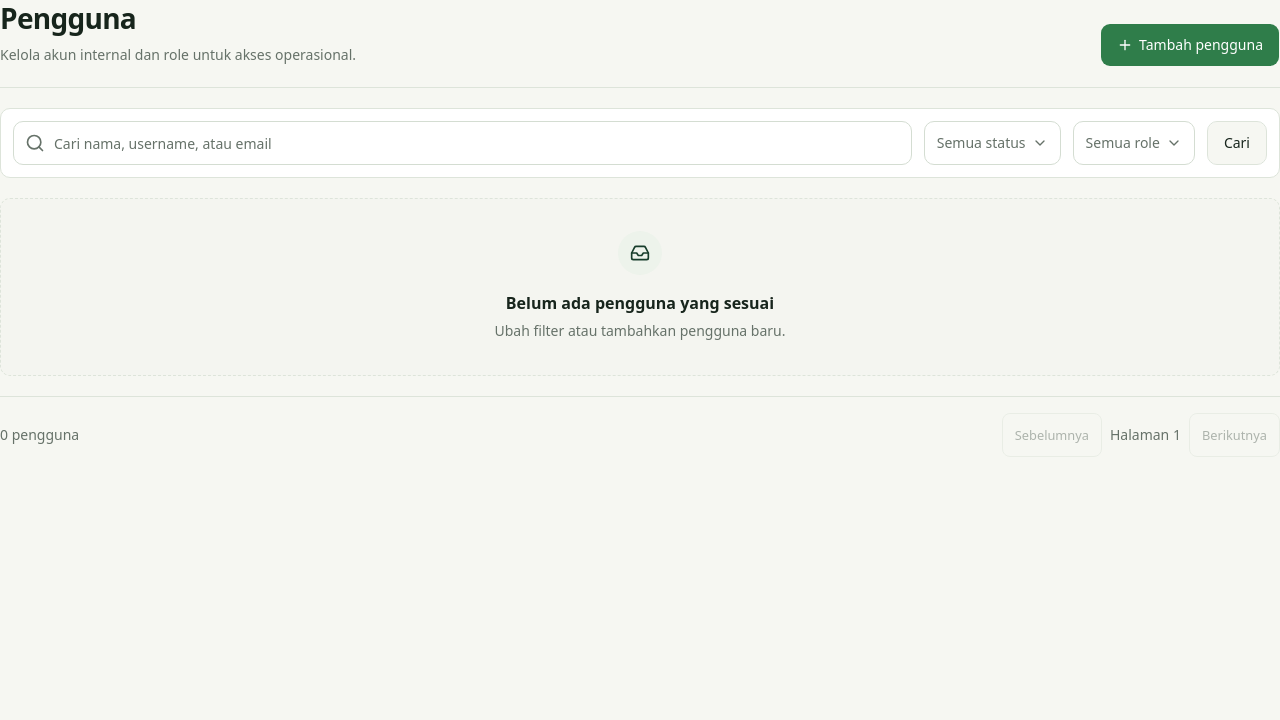
Test: shows an API error when creating a user fails
Click the button "Tambah pengguna" at (1190, 45), box [1100,23,1279,67]
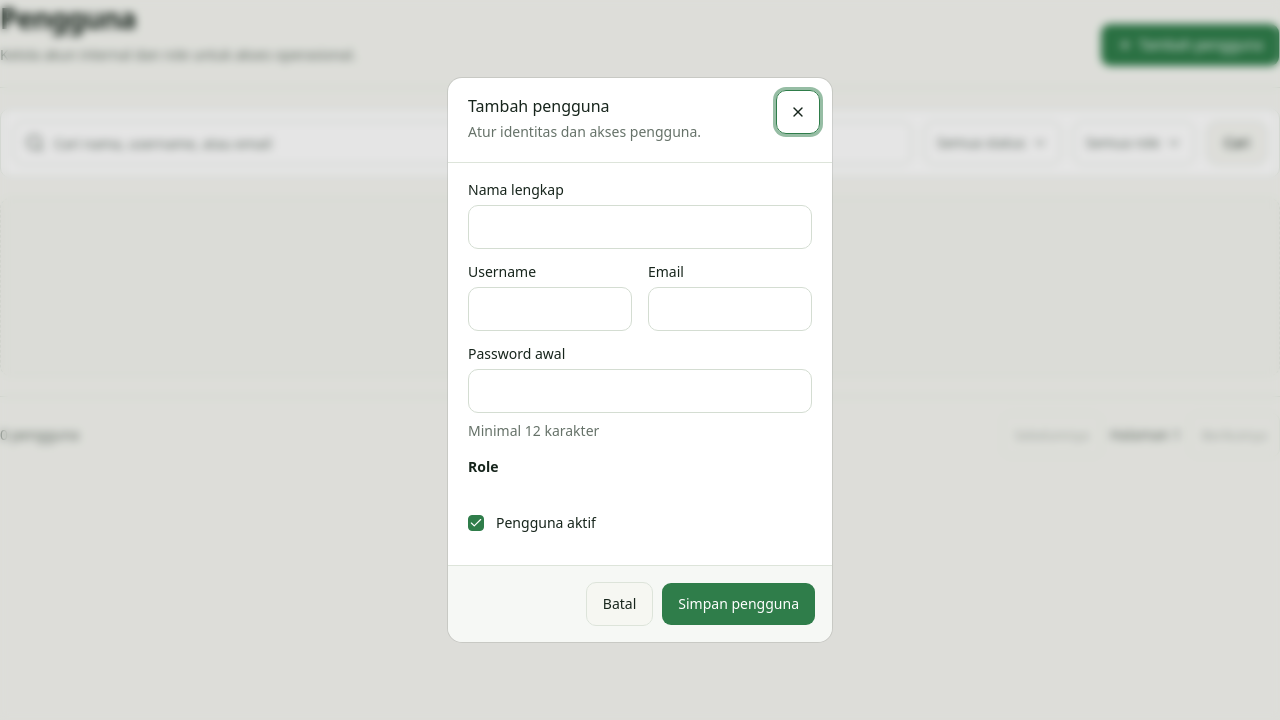
Type "Petugas Baru" into the field labelled "Nama lengkap" at (640, 227), box [468,205,812,249]
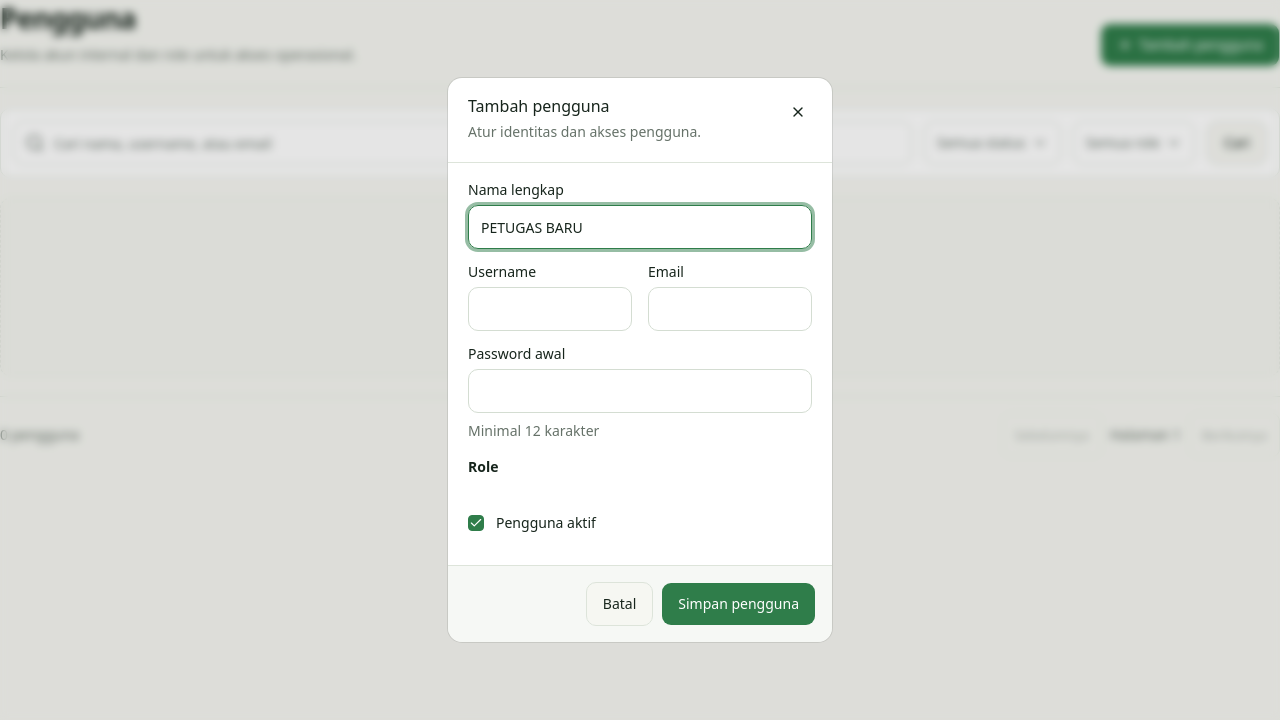
Type "petugas.baru" into the field labelled "Username" at (550, 309), box [468,287,632,331]
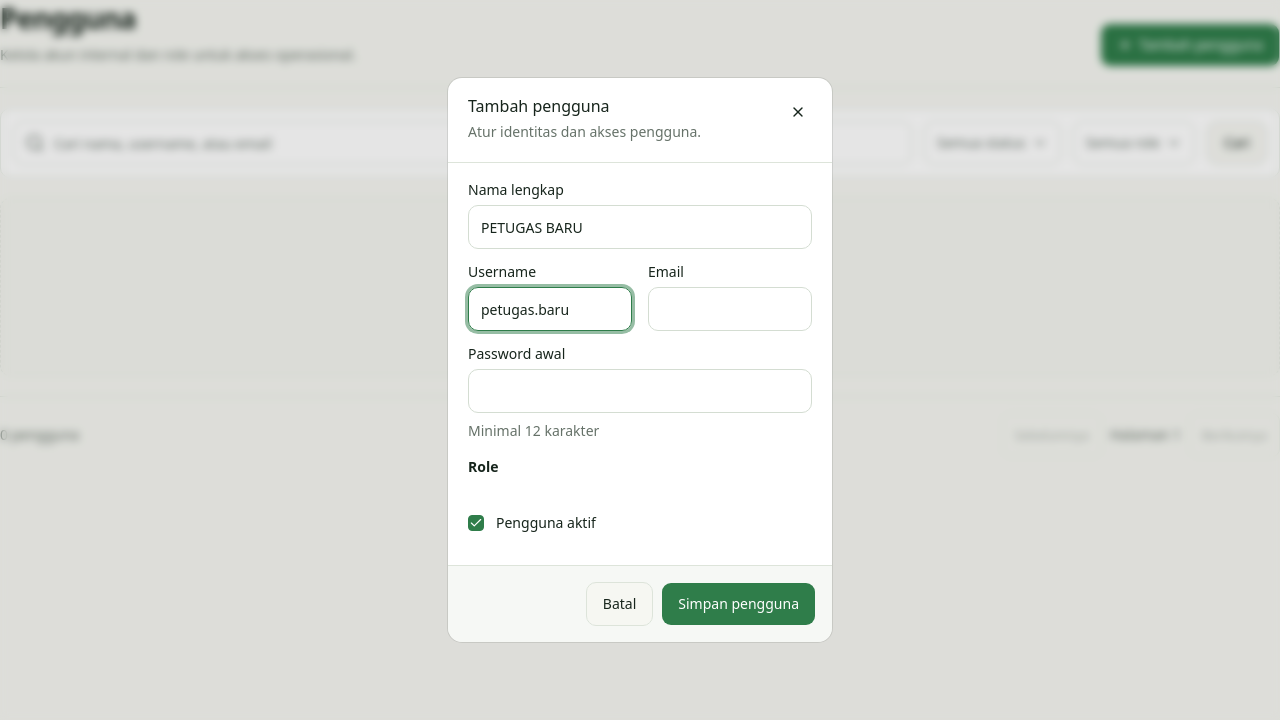
Type "petugas@konkit.test" into the field labelled "Email" at (730, 309), box [648,287,812,331]
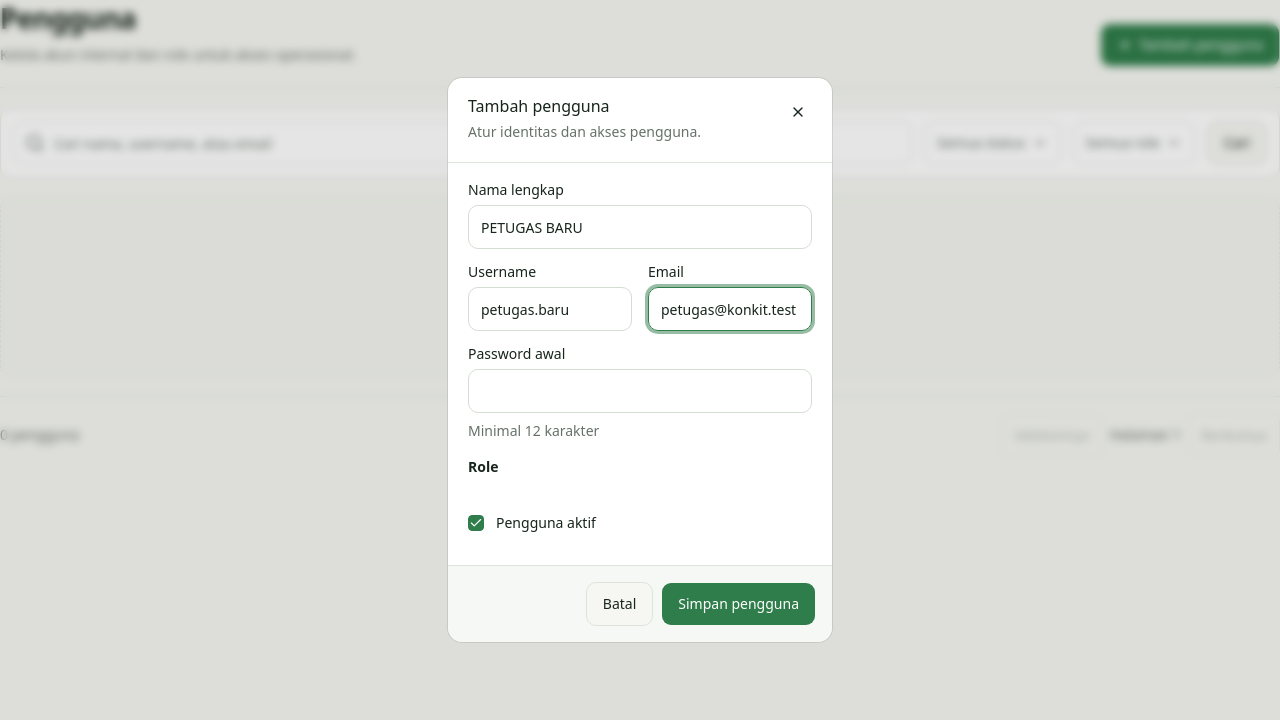
Type "Password-awal-2026" into the password field named "password" at (640, 391), box [468,369,812,413]
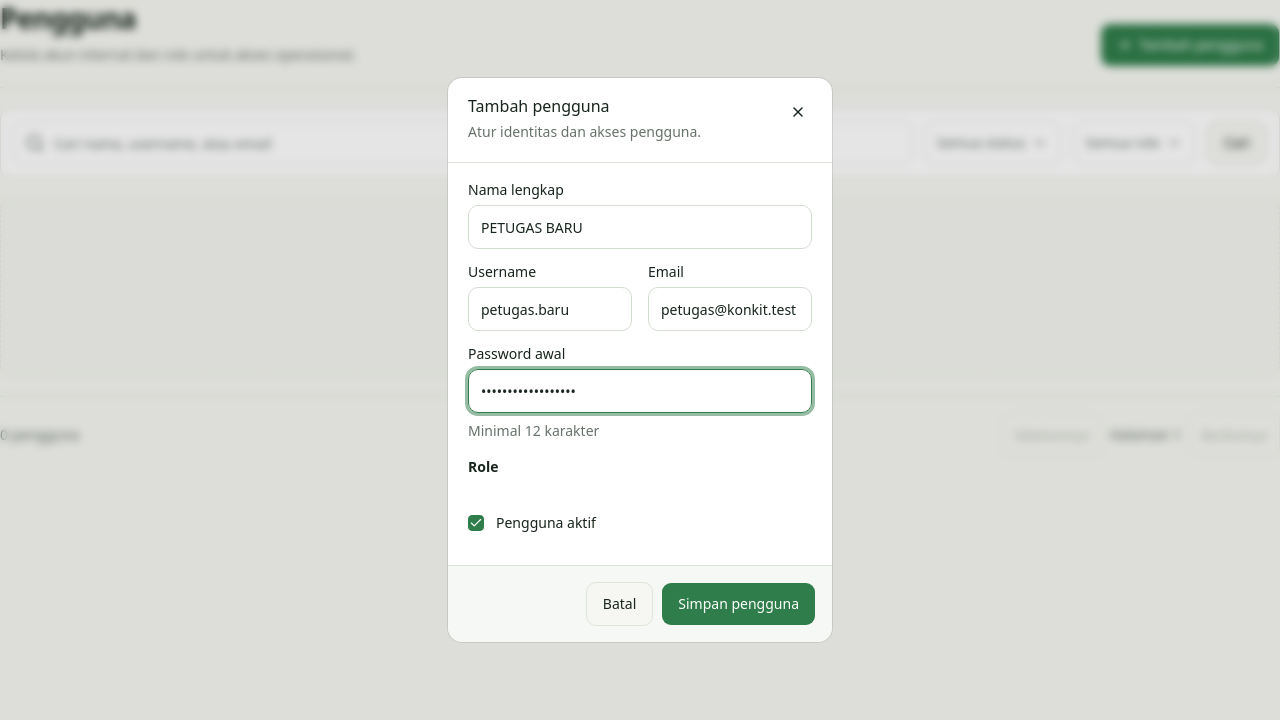
Click the button "Simpan pengguna" at (739, 604), box [661,582,816,626]
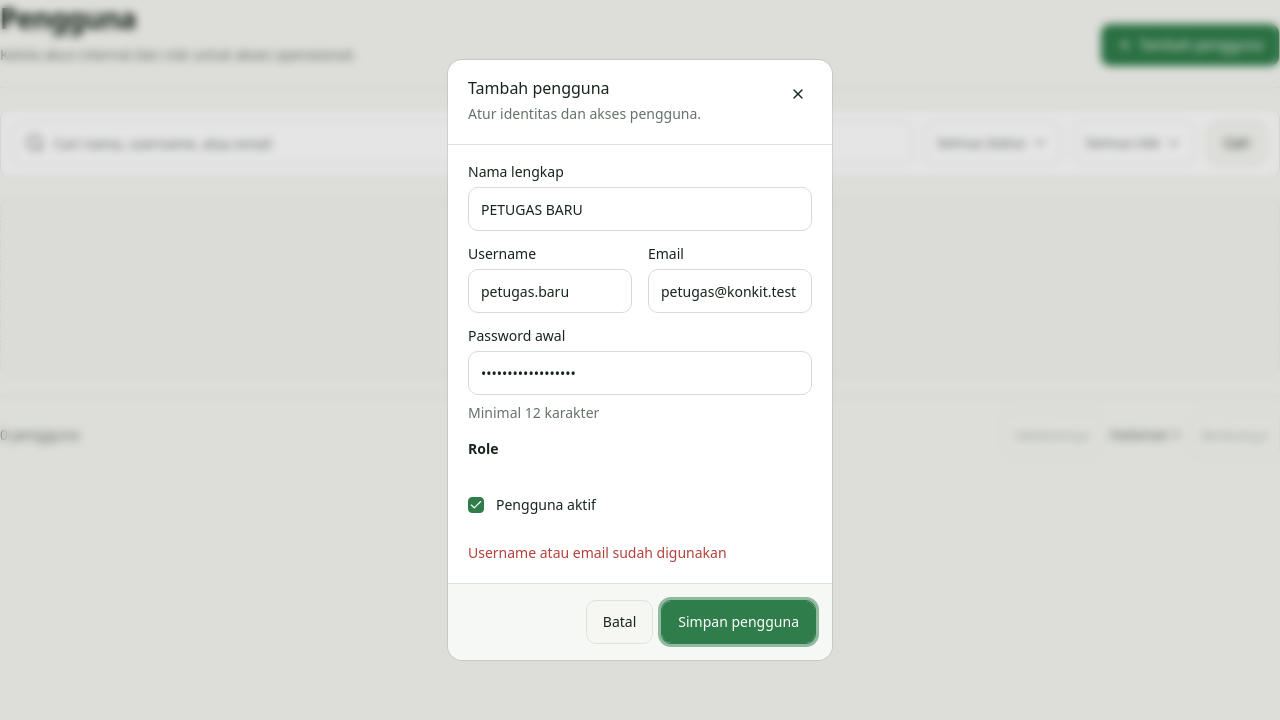
Check: the text "Username atau email sudah digunakan" is shown, box [468,543,727,562]
